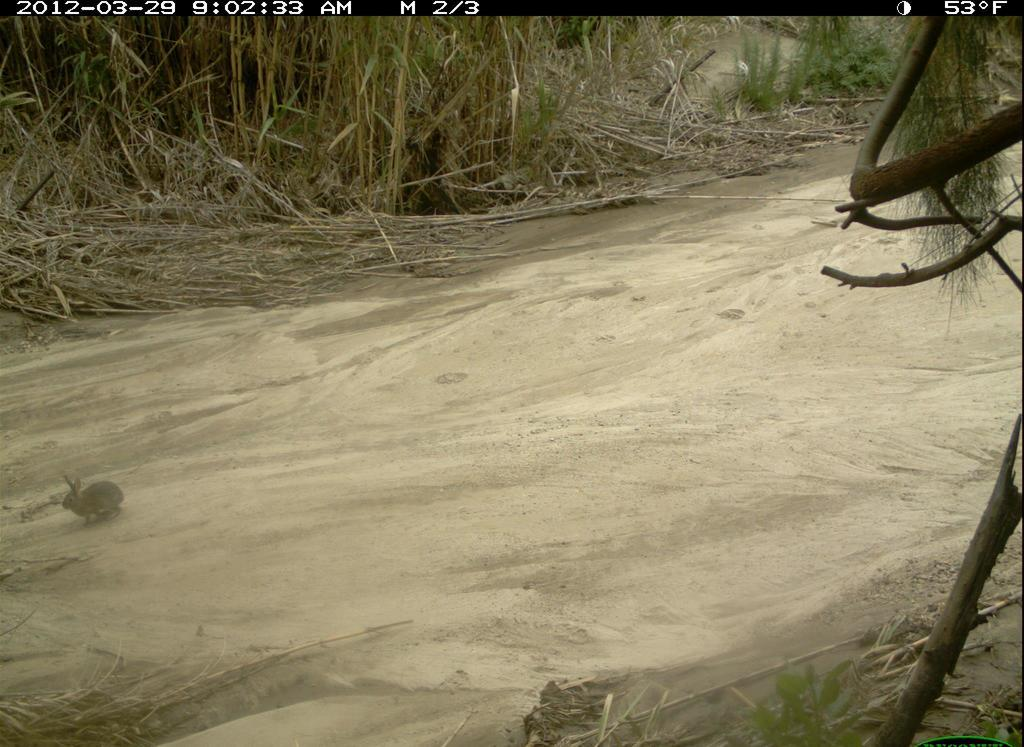rabbit: (48, 466, 136, 532)
